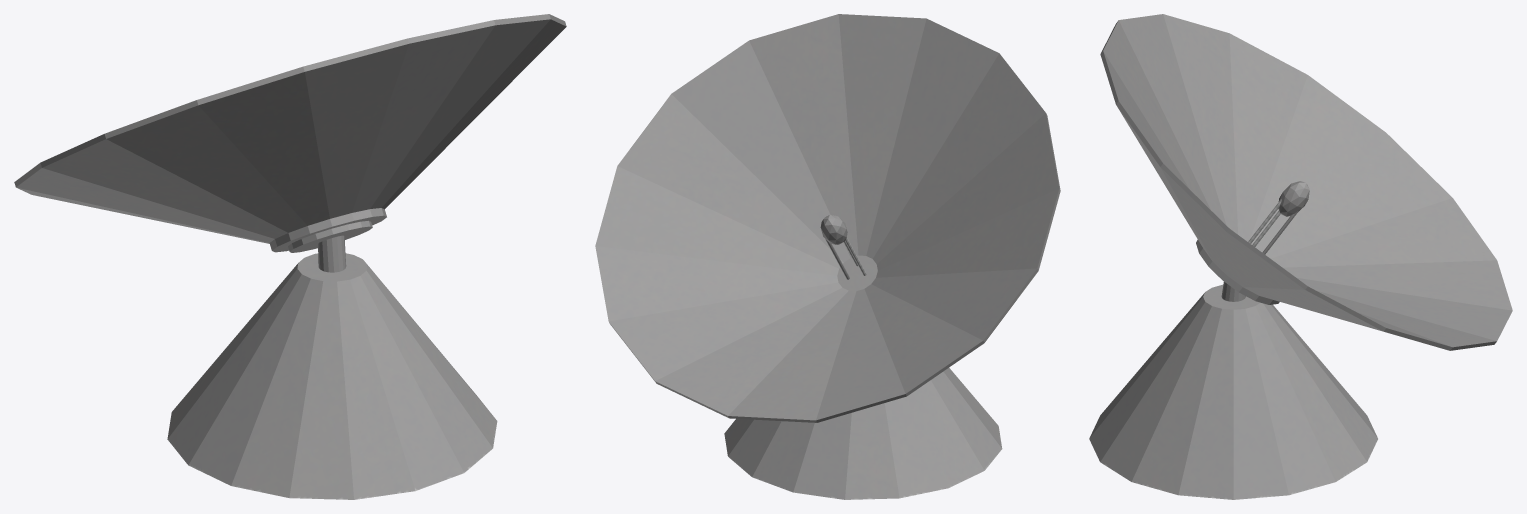
The model's file is Antena.obj.
The picture shows the model from 3 angles, left to right: view 1: azimuth 30°, elevation 25°; view 2: azimuth 150°, elevation 25°; view 3: azimuth 270°, elevation 25°; orthographic projection. The views are drawn at different scales.
Bounding box in the file's own units: 7.78 × 6.67 × 6.59.
1 material, 1 textured.
